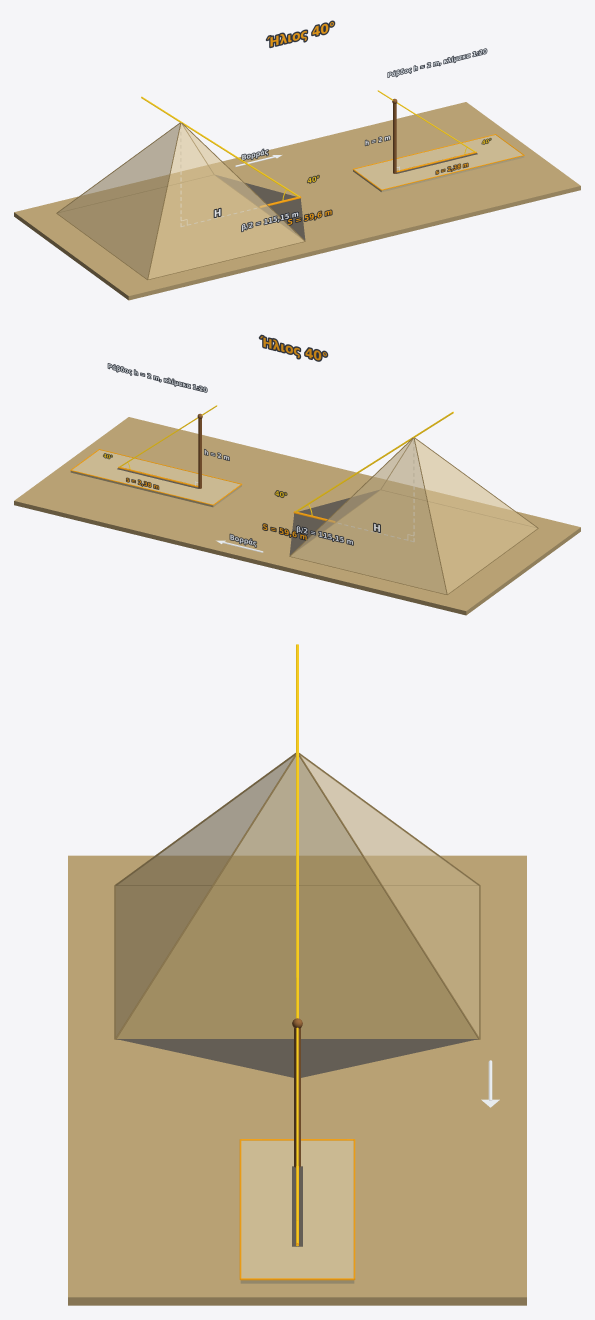
Rendered from pyramida-thali.glb.
The picture shows the model from 3 angles, top to bottom: view 1: azimuth 30°, elevation 25°; view 2: azimuth 150°, elevation 25°; view 3: azimuth 270°, elevation 25°; orthographic projection. The views are drawn at different scales.
Parts seen in each view (by area): view 1: edafos, pyramida, ravdos_1_20, ilios_40, akmes_pyramidas, etiketa Ήλιος 40° +z, etiketa Ράβδος h = 2 m, κλίμακα 1:20 +z; view 2: edafos, pyramida, ravdos_1_20, ilios_40, akmes_pyramidas, etiketa Ήλιος 40° -z, etiketa Ράβδος h = 2 m, κλίμακα 1:20 -z; view 3: edafos, pyramida, ravdos_1_20, ilios_40, akmes_pyramidas.
Part boxes in pixels (<box>): edafos: <box>14,102,580,300</box>; pyramida: <box>57,123,303,278</box>; ravdos_1_20: <box>352,98,524,192</box>; ilios_40: <box>141,90,477,240</box>; akmes_pyramidas: <box>56,123,305,279</box>; etiketa Ήλιος 40° +z: <box>266,20,335,47</box>; etiketa Ράβδος h = 2 m, κλίμακα 1:20 +z: <box>387,48,487,77</box>; edafos: <box>14,417,580,615</box>; pyramida: <box>291,438,537,593</box>; ravdos_1_20: <box>70,413,242,507</box>; ilios_40: <box>117,405,453,555</box>; akmes_pyramidas: <box>289,438,538,594</box>; etiketa Ήλιος 40° -z: <box>259,334,328,361</box>; etiketa Ράβδος h = 2 m, κλίμακα 1:20 -z: <box>107,363,207,392</box>; edafos: <box>68,855,526,1305</box>; pyramida: <box>115,755,479,1038</box>; ravdos_1_20: <box>239,1018,355,1283</box>; ilios_40: <box>116,644,478,1246</box>; akmes_pyramidas: <box>114,753,480,1039</box>.
Size of what is drawn, in the model's own units: 0.66 by 0.249 by 0.29.
22 materials, 9 textured.
